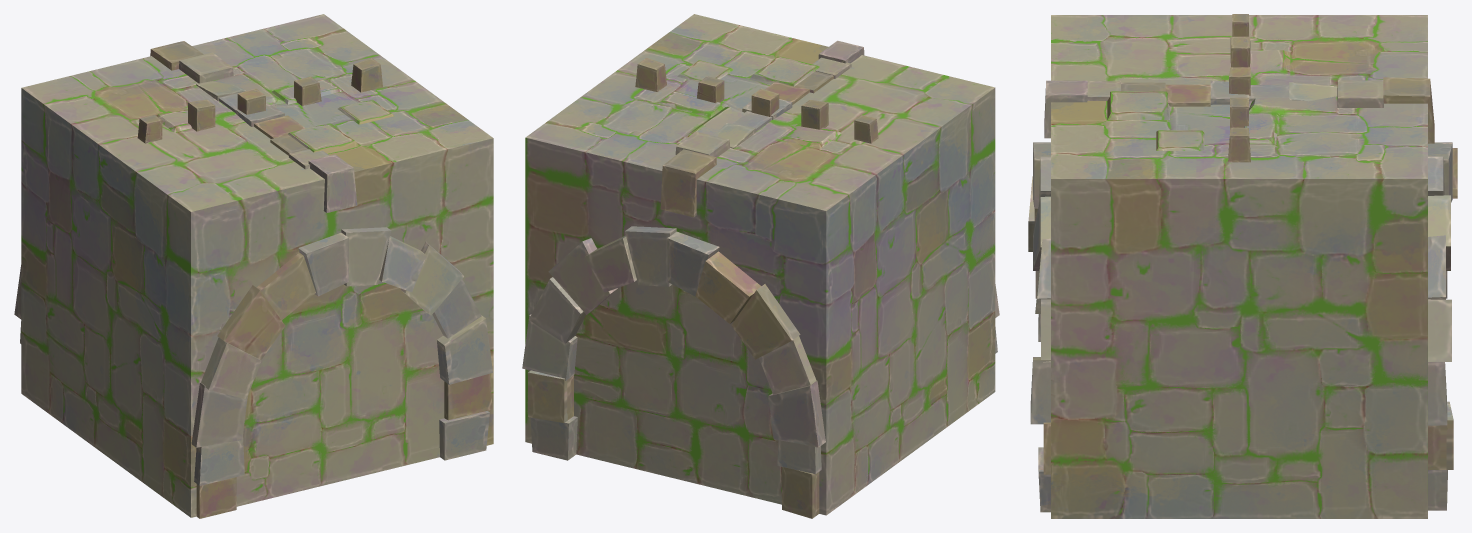
The model's file is Wallbridge.fbx.
3 views of the same model, side by side, from view 1: azimuth 30°, elevation 25°; view 2: azimuth 150°, elevation 25°; view 3: azimuth 270°, elevation 25° (orthographic). The views are drawn at different scales.
Parts seen in each view (by area): view 1: Wallbridge_wall, Wallbridge_bridge, Wallbridge_Parts_A, Wallbridge_Parts_C; view 2: Wallbridge_wall, Wallbridge_bridge, Wallbridge_Parts_A, Wallbridge_Parts_C; view 3: Wallbridge_wall, Wallbridge_bridge, Wallbridge_Parts_A, Wallbridge_Parts_C.
Boxes of the visible parts, left/top/right/bottom form: Wallbridge_wall: left=21, top=14, right=493, bottom=517; Wallbridge_bridge: left=14, top=14, right=493, bottom=518; Wallbridge_Parts_A: left=150, top=41, right=357, bottom=212; Wallbridge_Parts_C: left=137, top=58, right=382, bottom=143; Wallbridge_wall: left=525, top=14, right=995, bottom=515; Wallbridge_bridge: left=522, top=14, right=999, bottom=518; Wallbridge_Parts_A: left=660, top=40, right=864, bottom=217; Wallbridge_Parts_C: left=635, top=57, right=878, bottom=143; Wallbridge_wall: left=1051, top=15, right=1427, bottom=518; Wallbridge_bridge: left=1028, top=15, right=1457, bottom=512; Wallbridge_Parts_A: left=1044, top=77, right=1434, bottom=143; Wallbridge_Parts_C: left=1228, top=14, right=1250, bottom=162.
Bounding box in the file's own units: 313 × 325 × 345.
1 material, 1 textured.
